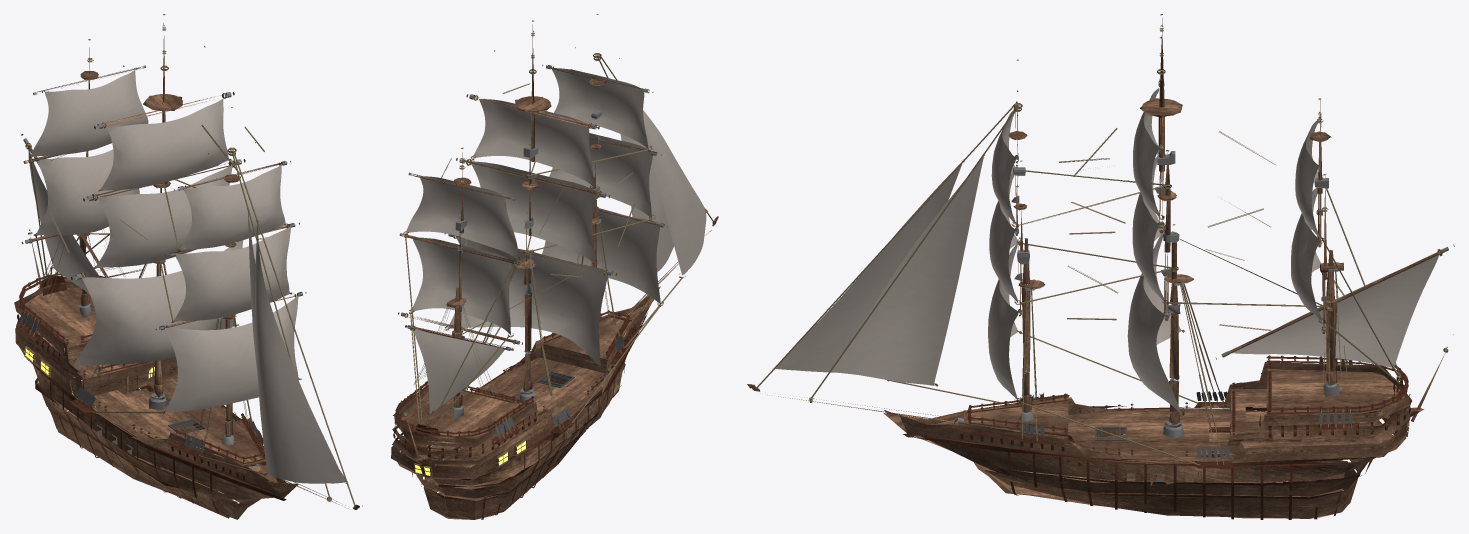
Rendered from galleon.glb.
The picture shows the model from 3 angles, left to right: view 1: azimuth 30°, elevation 25°; view 2: azimuth 150°, elevation 25°; view 3: azimuth 270°, elevation 25°; orthographic projection. The views are drawn at different scales.
Visible parts, largest first — view 1: MainShip_MainShip_0, FlyingJib_Sails_0, MainSail1_Sails_0, ForeSail1_Sails_0, MainSail3_Sails_0, ForeSail2_Sails_0, MainSail2_Sails_0, MizzenSail2_Sails_0, ForeSail3_Sails_0, MizzenSail1_Sails_0, Ropes_Ropes_0, BackJib_Sails_0 (+12 smaller); view 2: MainShip_MainShip_0, MainSail1_Sails_0, MainSail2_Sails_0, MizzenSail1_Sails_0, MainSail3_Sails_0, MizzenSail2_Sails_0, ForeSail1_Sails_0, ForeSail3_Sails_0, FlyingJib_Sails_0, ForeSail2_Sails_0, BackJib_Sails_0, MainMast_Poles_0 (+15 smaller); view 3: MainShip_MainShip_0, Jib_Sails_0, BackJib_Sails_0, FlyingJib_Sails_0, Ropes_Ropes_0, MainMast_Poles_0, MainSail1_Sails_0, Cylinder.004_Details_0, ForeSail1_Sails_0, Mizzen_Poles_0, ForeMast_Poles_0, MizzenSail1_Sails_0 (+8 smaller).
Part boxes in pixels (<box>): MainShip_MainShip_0: <box>14,278,298,519</box>; FlyingJib_Sails_0: <box>255,222,345,483</box>; MainSail1_Sails_0: <box>74,240,243,365</box>; ForeSail1_Sails_0: <box>165,295,298,412</box>; MainSail3_Sails_0: <box>100,98,228,191</box>; ForeSail2_Sails_0: <box>174,226,290,321</box>; MainSail2_Sails_0: <box>96,165,232,267</box>; MizzenSail2_Sails_0: <box>31,70,148,156</box>; ForeSail3_Sails_0: <box>180,164,286,250</box>; MizzenSail1_Sails_0: <box>36,149,139,235</box>; Ropes_Ropes_0: <box>29,124,355,506</box>; BackJib_Sails_0: <box>28,149,100,292</box>; MainShip_MainShip_0: <box>391,286,660,519</box>; MainSail1_Sails_0: <box>447,237,607,366</box>; MainSail2_Sails_0: <box>471,161,596,263</box>; MizzenSail1_Sails_0: <box>411,237,511,335</box>; MainSail3_Sails_0: <box>472,99,594,187</box>; MizzenSail2_Sails_0: <box>406,176,517,259</box>; ForeSail1_Sails_0: <box>542,208,660,303</box>; ForeSail3_Sails_0: <box>552,68,648,148</box>; FlyingJib_Sails_0: <box>643,110,706,275</box>; ForeSail2_Sails_0: <box>549,133,653,218</box>; BackJib_Sails_0: <box>413,329,504,413</box>; MainMast_Poles_0: <box>515,20,551,403</box>; MainShip_MainShip_0: <box>883,362,1411,518</box>; Jib_Sails_0: <box>831,156,983,385</box>; BackJib_Sails_0: <box>1232,255,1438,367</box>; FlyingJib_Sails_0: <box>774,163,962,372</box>; Ropes_Ropes_0: <box>755,104,1401,466</box>; MainMast_Poles_0: <box>1140,14,1193,438</box>; MainSail1_Sails_0: <box>1127,233,1181,413</box>; Cylinder.004_Details_0: <box>967,355,1408,456</box>; ForeSail1_Sails_0: <box>988,243,1018,400</box>; Mizzen_Poles_0: <box>1309,98,1343,396</box>; ForeMast_Poles_0: <box>1008,59,1045,421</box>; MizzenSail1_Sails_0: <box>1291,187,1321,321</box>.
Bounding box in the file's own units: 2.93 × 7.16 × 9.4.
8 materials, 8 textured.
